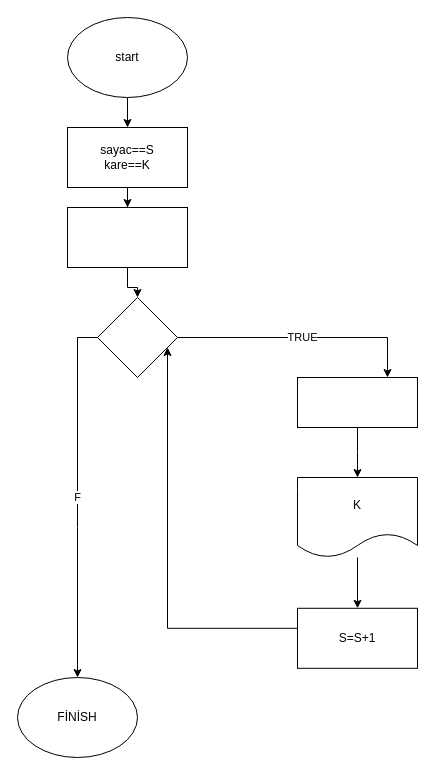
This 435x775 diagram has some shape labels left out. Each missing label, with the centre of its shape:
K==S*S: point 357,402
S<11: point 137,337
S==1: point 127,237
